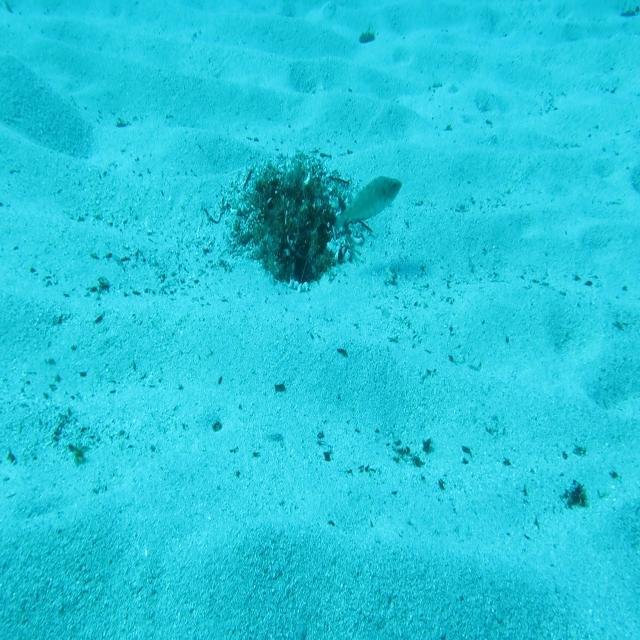SA: (330, 168, 404, 244)
core_nest: (278, 184, 328, 220)
nest: (234, 144, 361, 296)
